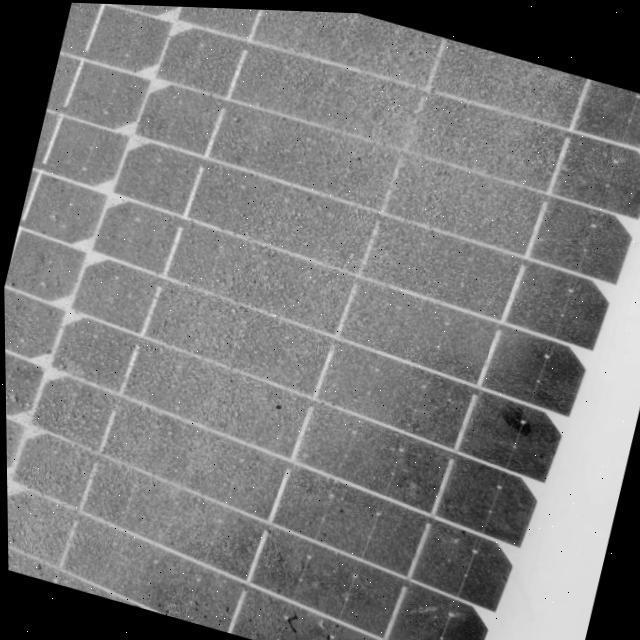Surface Contaminant: (28, 78, 598, 640)
